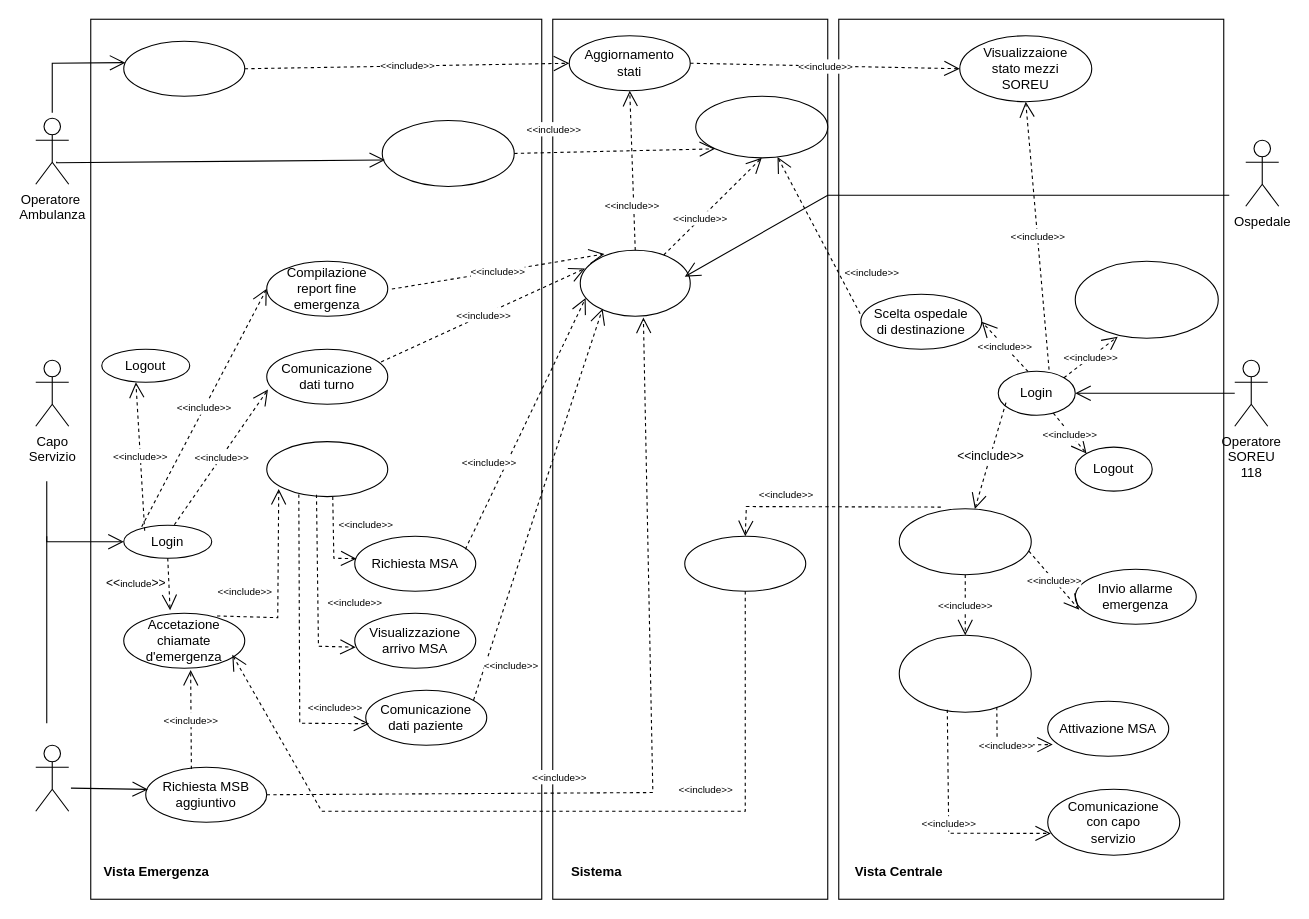
Some shapes in this 1309 by 919 pixel diagram are drawn without their labels. Here are the shapes that lost their labels. From the top down, the box of each, then its label:
(123, 40, 245, 96): Comunicazione stati
(695, 95, 828, 158): Ricerca ospedali candidati
(381, 119, 514, 186): Visualizzazione ospedale di destinazione
(579, 249, 690, 316): Memorizzazione dati
(1074, 260, 1218, 338): Visualizzazione report fine emergenza
(266, 441, 388, 497): Comunicazione con centrale
(898, 508, 1031, 575): Compilazione modulo emergenza
(684, 535, 806, 591): Ricerca AAT più vicina
(898, 634, 1031, 712): Richiesta dati aggiuntivi emergenza
(35, 744, 69, 811): Operatore MSA
